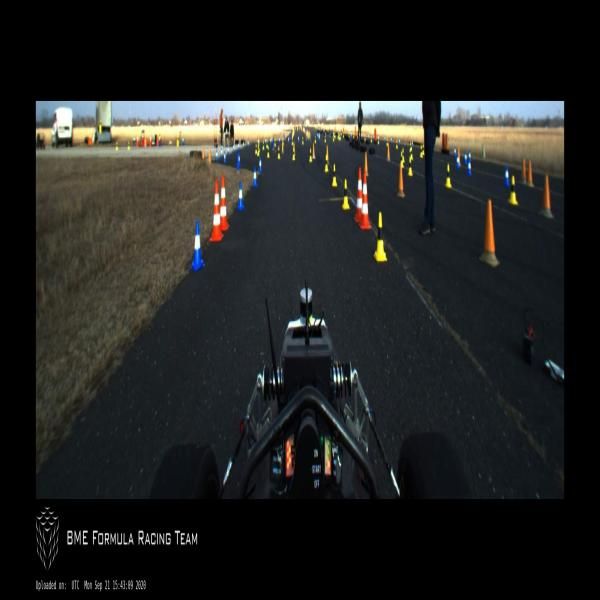blue_cone: (190, 222, 206, 270), (238, 183, 245, 209), (503, 166, 510, 187), (253, 166, 257, 187), (468, 159, 471, 176), (259, 156, 262, 172), (456, 154, 459, 169), (223, 150, 226, 163), (464, 151, 467, 164), (453, 147, 456, 158), (216, 149, 218, 162), (238, 153, 240, 166)
large_orange_cone: (209, 180, 224, 241), (359, 172, 371, 228), (220, 175, 229, 230), (354, 168, 362, 222)
unknown_cone: (479, 199, 500, 268), (539, 174, 553, 219), (397, 163, 405, 198), (526, 159, 534, 187), (521, 159, 526, 183), (387, 143, 390, 161), (312, 142, 315, 158)
yellow_cone: (374, 212, 387, 262), (509, 175, 518, 206), (342, 180, 350, 209), (445, 163, 452, 188), (332, 164, 337, 187), (409, 157, 412, 176), (325, 155, 328, 172), (401, 151, 404, 168), (402, 148, 405, 163), (309, 149, 312, 163), (422, 144, 425, 156), (292, 149, 295, 160), (267, 147, 270, 158), (278, 147, 280, 159), (420, 146, 422, 158), (257, 146, 259, 156), (255, 144, 257, 154), (262, 141, 264, 150), (266, 140, 268, 148)
